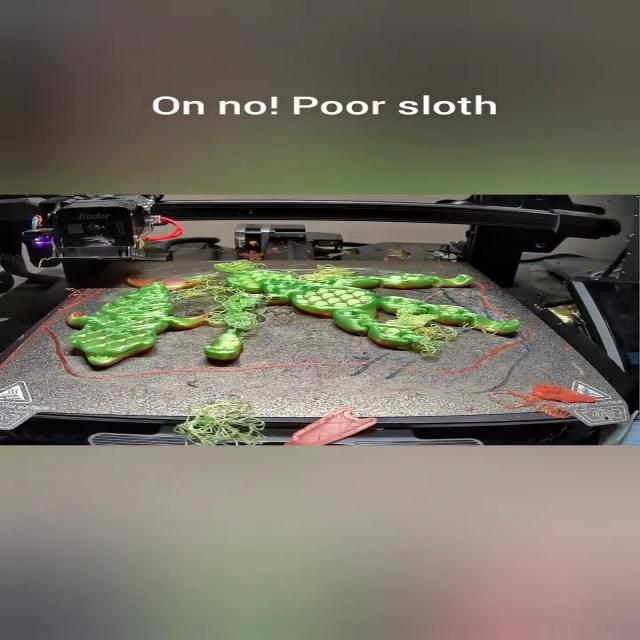spaghetti: (166, 397, 281, 451), (483, 382, 596, 421), (205, 290, 270, 342)
